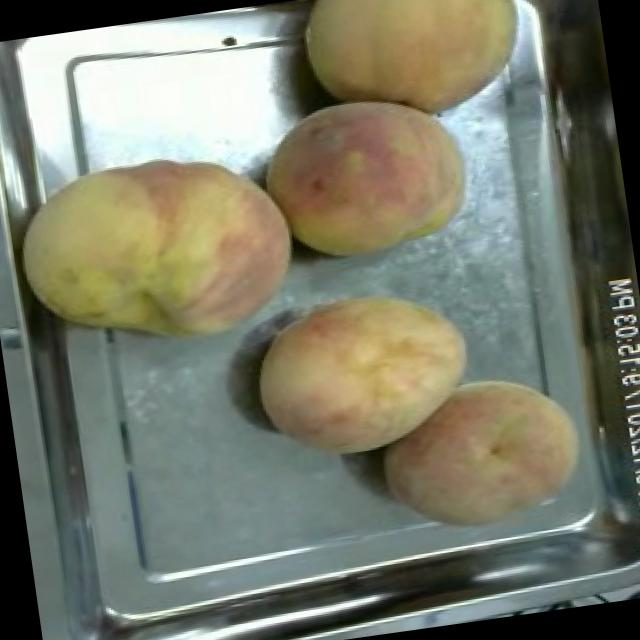Fruit: (0, 122, 317, 379), (237, 270, 486, 478), (242, 74, 486, 279), (359, 354, 604, 554), (285, 0, 542, 140)
